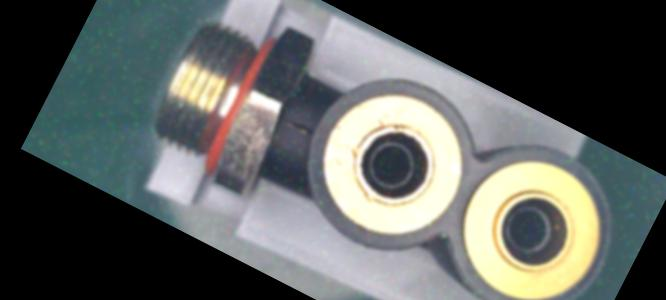craze: (279, 112, 316, 141)
